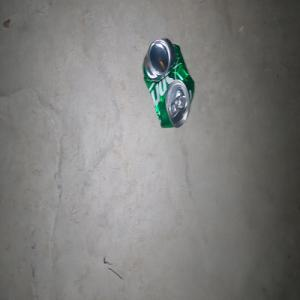SodaCan: (142, 37, 194, 128)
